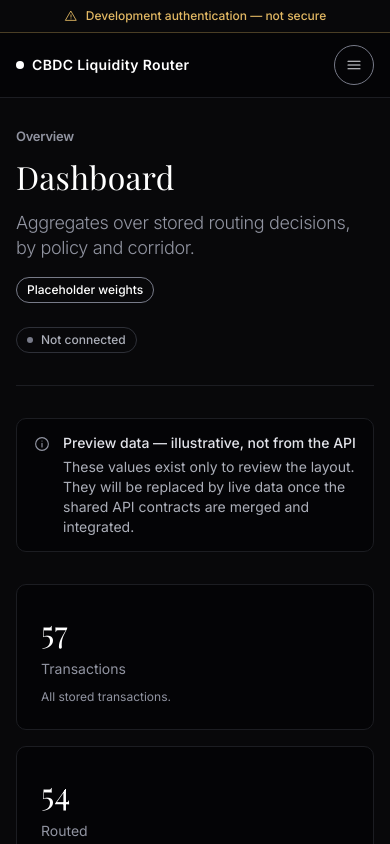
Scenario: AppShell › toggles the mobile menu with aria-expanded and closes it with Escape
The width and height of the screenshot is (390, 844).
Click the button named "Open menu" at (354, 65), box [334,45,374,85]
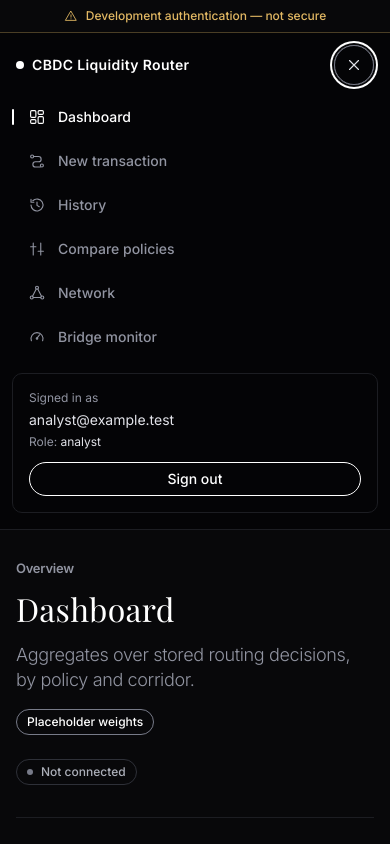
Result: the button named "Close menu" is expanded at [334,45,374,85]
Press Escape
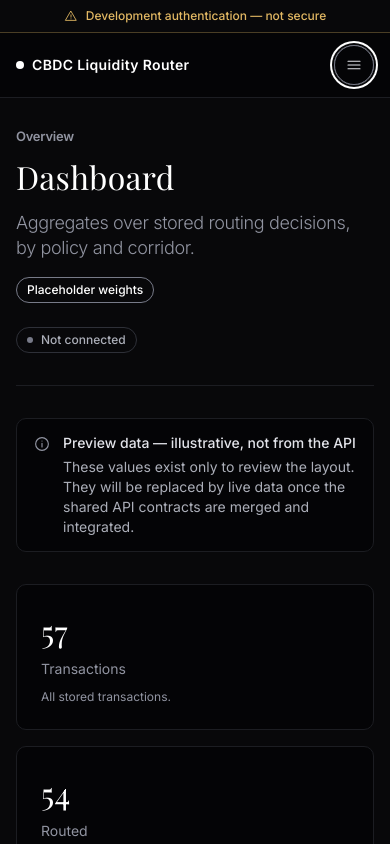
Result: the button named "Open menu" is collapsed at [334,45,374,85]
